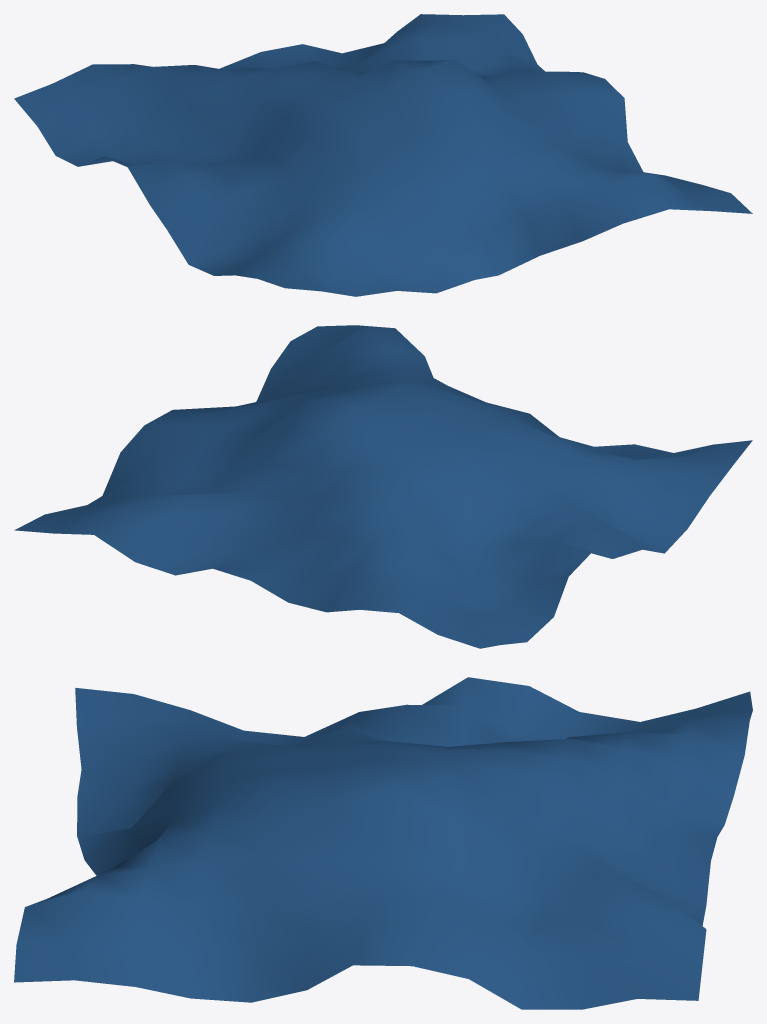
File: rag.fbx
3 views of the same model, one above another, from view 1: azimuth 30°, elevation 25°; view 2: azimuth 150°, elevation 25°; view 3: azimuth 270°, elevation 25° (orthographic). The views are drawn at different scales.
Visible parts, largest first — view 1: rag; view 2: rag; view 3: rag.
Boxes of the visible parts, box(x1,y1,x2,y2) form: rag: box(14, 14, 752, 296); rag: box(14, 325, 752, 648); rag: box(14, 677, 752, 1009).
Size of the model in its own units: 0.1951 by 0.2085 by 0.0453.
